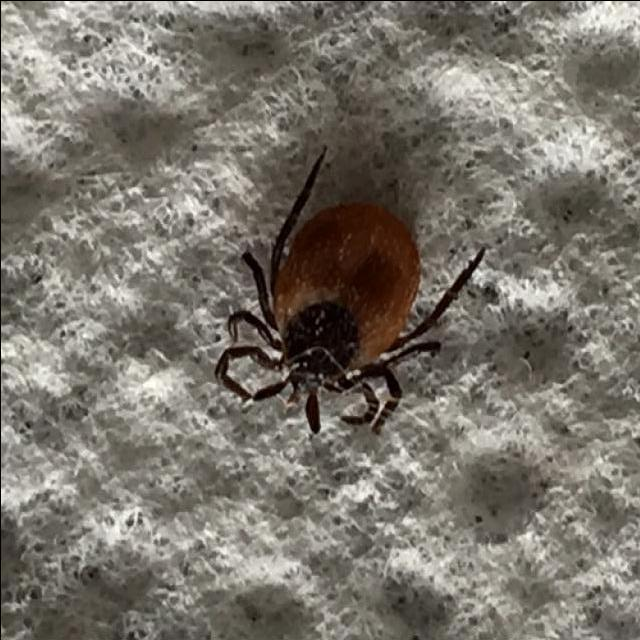Ixodes Ricinus-F-Fed: (212, 146, 485, 434)
